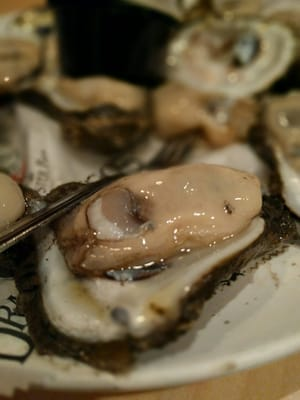sushi: (12, 162, 284, 373)
